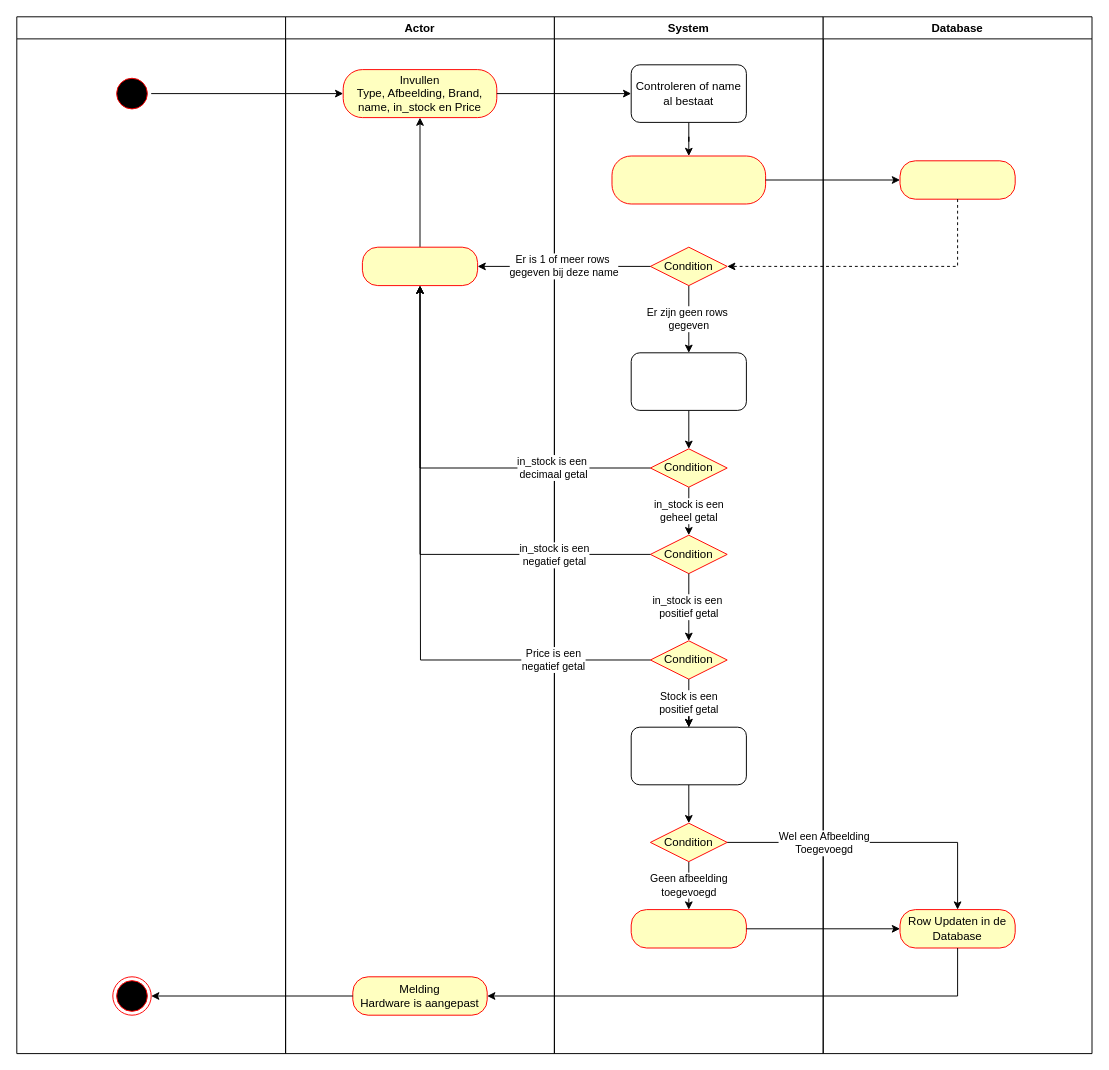
Some shapes in this 1109 by 1070 pixel diagram are drawn without their labels. The centre of each missing label's shape, as x and y in pixels:
"Afbeelding controleren" belongs at (x=688, y=755).
"Alle rows geven die bij de name hoort" belongs at (x=957, y=179).
"Controleren of in_stock en Price wel correct zijn" belongs at (x=688, y=381).
"De oude afbeelding gebruiken" belongs at (x=688, y=928).
"De row opvragen die bij deze name hoort behalve die bij deze hoort" belongs at (x=688, y=179).
"Fout Melding" belongs at (x=419, y=266).
